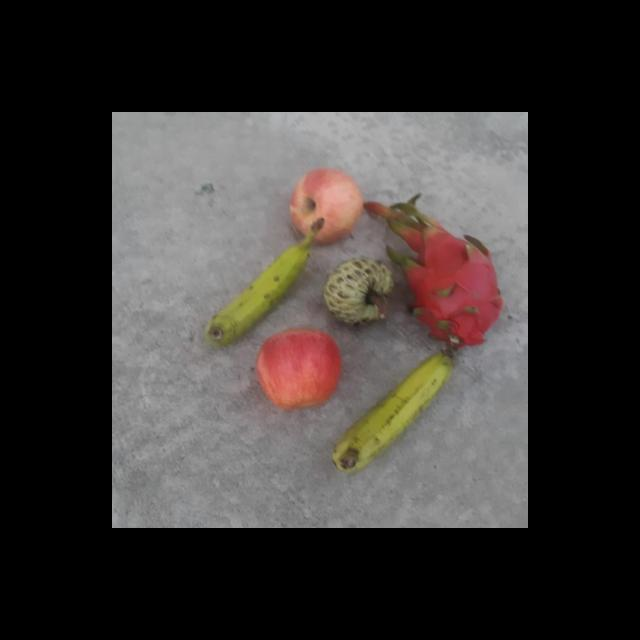Sakya fruit: (324, 256, 395, 329)
apple: (254, 326, 348, 410), (287, 166, 365, 247)
banana: (202, 216, 326, 348), (331, 350, 454, 472)
pitaya: (402, 210, 504, 351)
